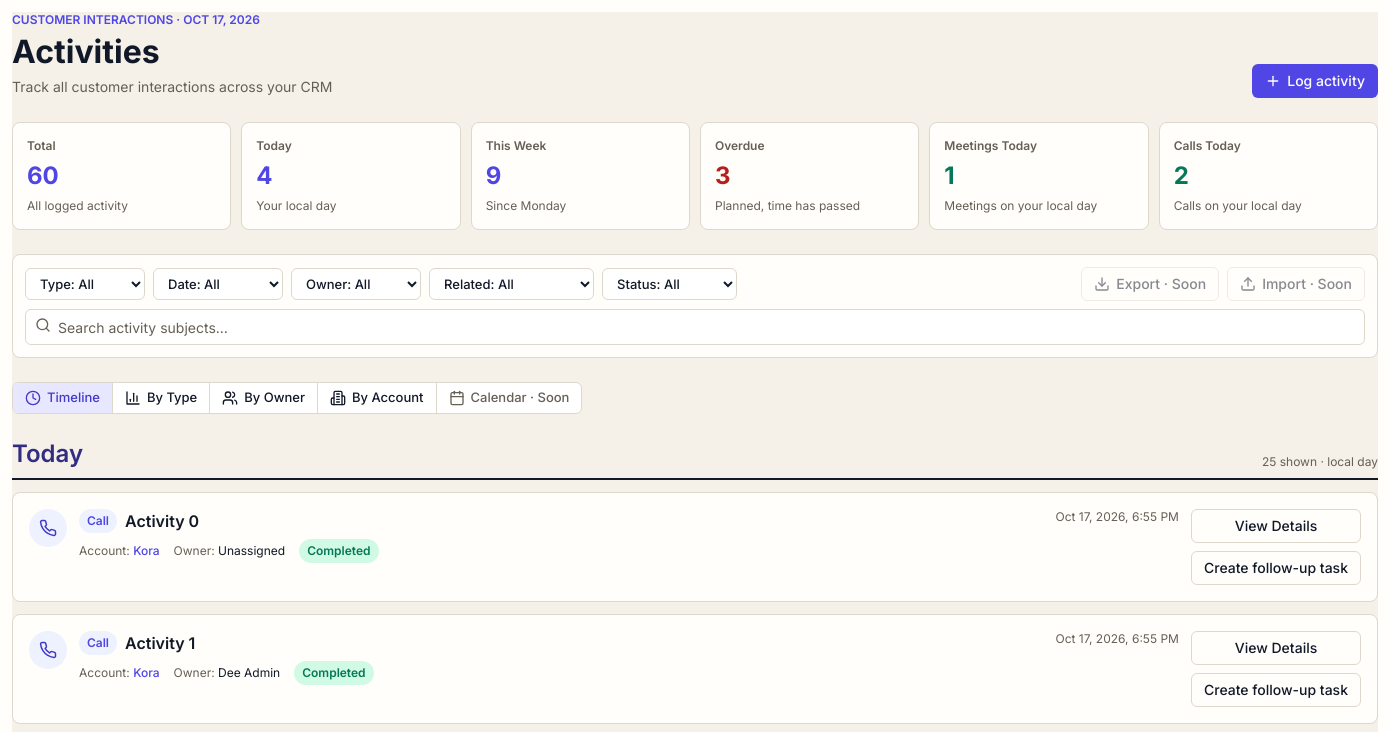
Test: Activities — server page, server counts, real filters › a grouped view says it regroups THIS page, not every activity
This screenshot has width=1390, height=732.
Click the button "By Owner". click: click(263, 398)
box: [209,383,317,413]
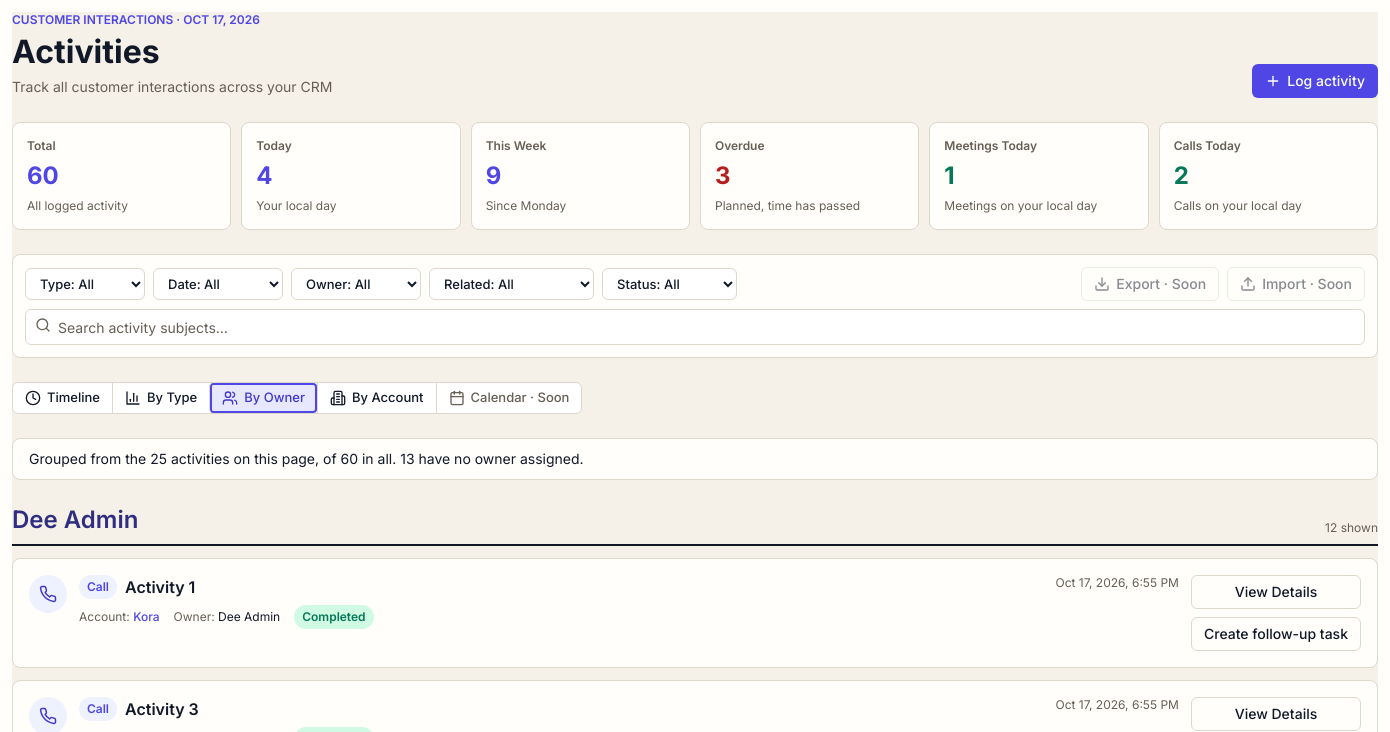
expect the text with test id "grouping-note" shows "Grouped from the 25 activities on this page, of 60 in all.": met, box [12,438,1378,480]
